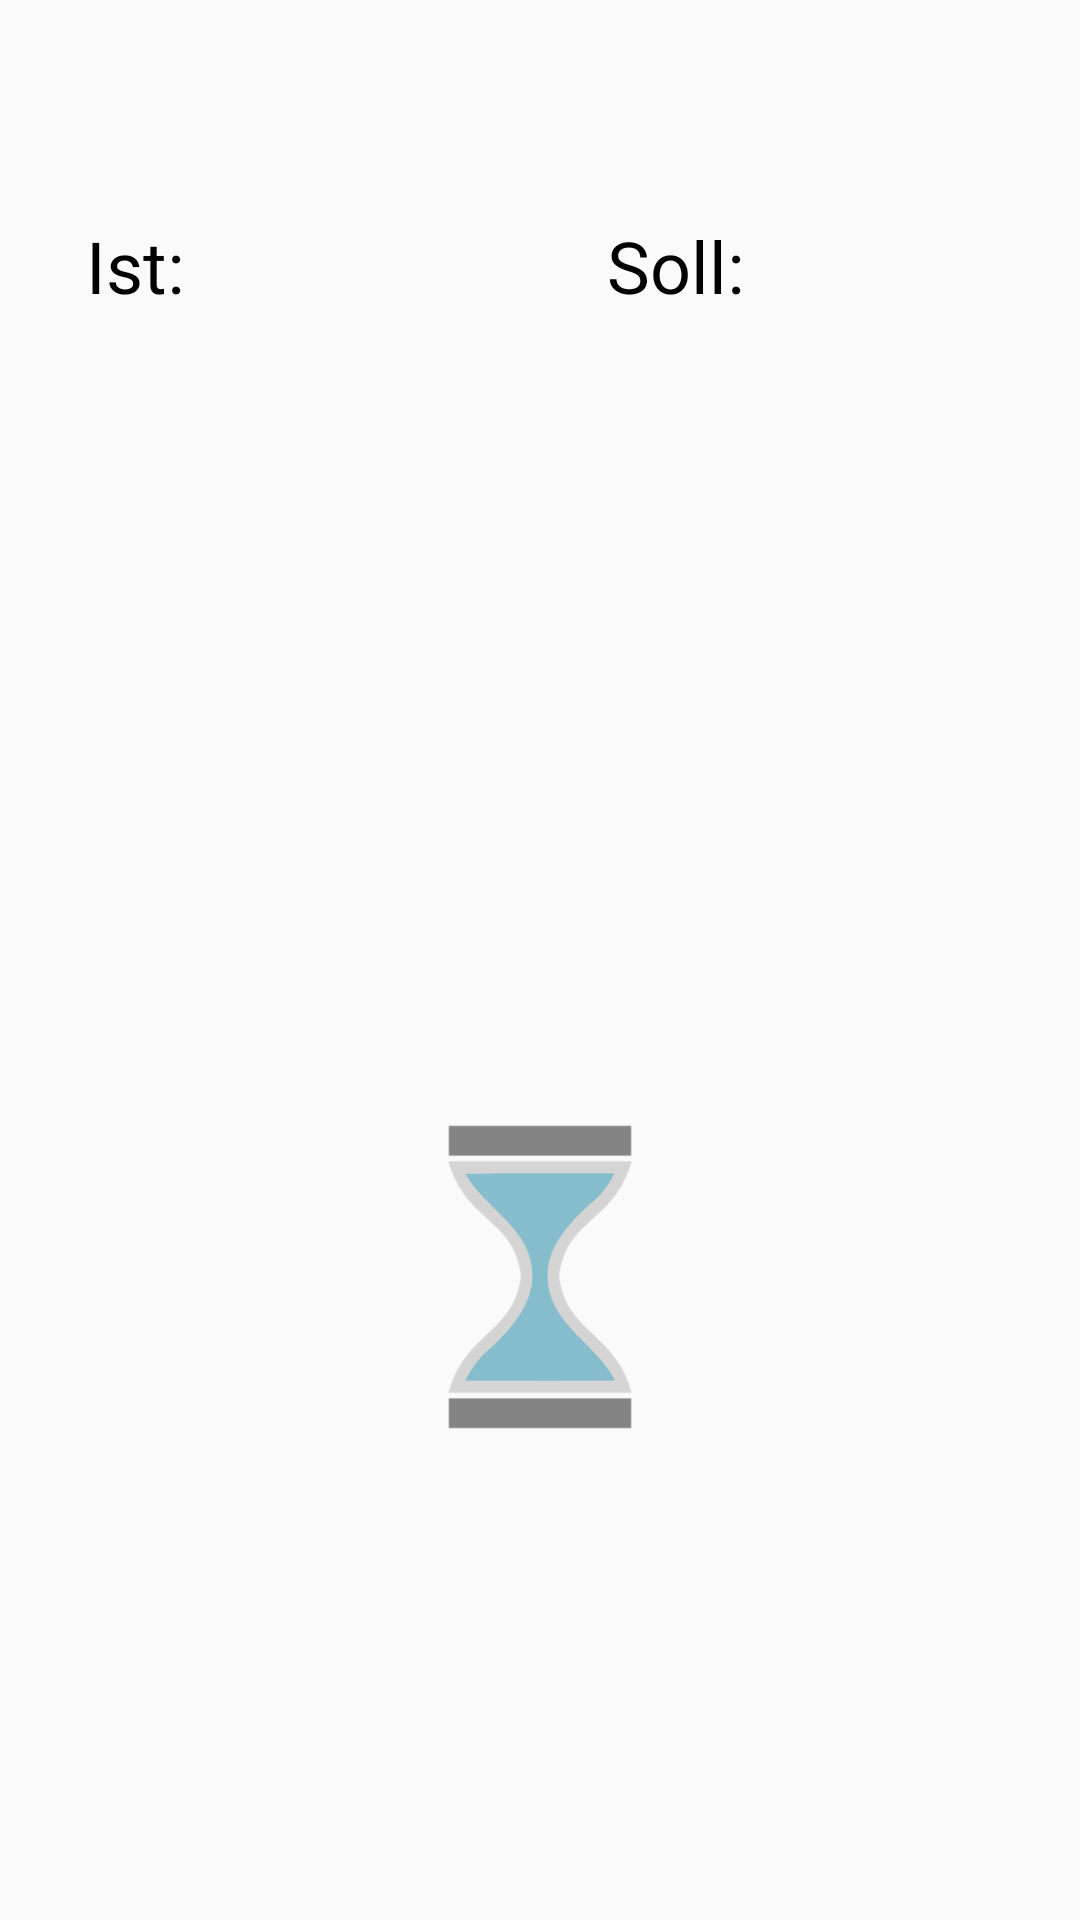

Screen size 1080x1920. Icon name, then its center in pixels as (x=x, y=y):
hourglass full: (x=540, y=1277)
